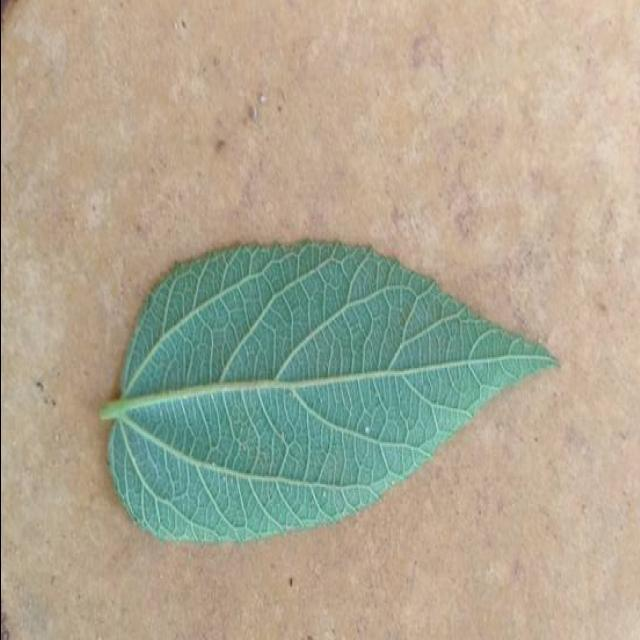leaf: (100, 236, 560, 544)
